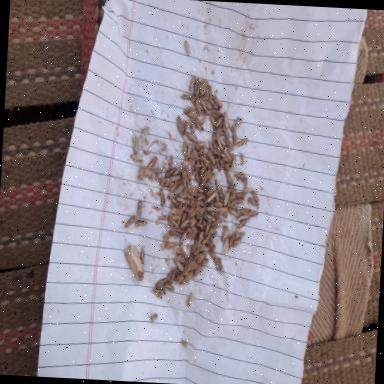abw: (121, 243, 146, 282)
pbw: (147, 308, 159, 328), (136, 124, 150, 140), (198, 78, 208, 100), (182, 38, 193, 58), (232, 232, 245, 248), (194, 238, 206, 255), (230, 116, 244, 130), (200, 173, 213, 188), (178, 230, 188, 249), (180, 169, 190, 188), (174, 114, 184, 132), (211, 93, 223, 108), (223, 110, 232, 128), (147, 166, 163, 176), (159, 172, 169, 188), (228, 230, 238, 246), (206, 150, 216, 166), (124, 213, 136, 226), (199, 154, 213, 165), (214, 178, 222, 196), (166, 215, 178, 227), (136, 198, 144, 216), (222, 238, 230, 256), (207, 138, 217, 152), (234, 136, 248, 146), (130, 152, 144, 162), (174, 258, 184, 272), (178, 268, 188, 282), (221, 224, 229, 241), (204, 220, 212, 237), (221, 150, 232, 162), (186, 131, 198, 142), (150, 288, 162, 299), (206, 191, 217, 203), (237, 213, 250, 223), (198, 97, 208, 110), (226, 170, 234, 186), (192, 80, 200, 96), (186, 290, 194, 306), (137, 164, 145, 180), (158, 188, 166, 204), (189, 238, 198, 252), (251, 187, 260, 201), (187, 258, 198, 269), (131, 136, 139, 151), (174, 162, 184, 174), (148, 156, 158, 168), (216, 133, 224, 148), (202, 168, 210, 183), (184, 105, 196, 115), (168, 194, 180, 204), (185, 143, 192, 160), (136, 218, 149, 227), (214, 256, 222, 270), (189, 74, 196, 90), (214, 191, 222, 205), (166, 156, 174, 170), (192, 154, 199, 170), (196, 251, 206, 262), (212, 218, 223, 228), (206, 238, 216, 249), (236, 172, 247, 182), (166, 167, 176, 178), (186, 164, 192, 182), (168, 272, 177, 284), (194, 214, 206, 223), (215, 114, 224, 126), (223, 191, 230, 206), (165, 240, 178, 248), (196, 231, 204, 244), (206, 204, 219, 212), (193, 265, 203, 275), (198, 259, 208, 269), (228, 206, 238, 216), (198, 164, 208, 174), (236, 218, 246, 228), (180, 218, 190, 228), (210, 99, 219, 110), (175, 195, 186, 204), (194, 118, 202, 130), (248, 208, 260, 216), (170, 180, 178, 192), (220, 205, 228, 217), (155, 278, 167, 286), (209, 115, 217, 127), (192, 150, 204, 158), (191, 142, 197, 158), (231, 130, 237, 145), (194, 172, 202, 183), (230, 156, 237, 168), (170, 207, 182, 214), (194, 96, 201, 108), (181, 93, 193, 100), (190, 117, 196, 131), (240, 206, 250, 214), (164, 282, 174, 290), (175, 250, 185, 258), (204, 100, 212, 110), (155, 287, 165, 295), (204, 214, 214, 222), (215, 158, 221, 170), (188, 204, 194, 216), (236, 192, 248, 198), (208, 249, 216, 258), (222, 126, 228, 138), (231, 187, 235, 205), (196, 142, 206, 149), (172, 213, 182, 220), (181, 142, 186, 156), (242, 186, 252, 193), (167, 269, 173, 280), (220, 160, 228, 168), (196, 222, 204, 230), (189, 191, 198, 198), (200, 115, 207, 124), (197, 204, 203, 214), (190, 95, 196, 105), (190, 185, 198, 192), (197, 189, 206, 195), (158, 215, 168, 220), (197, 194, 203, 201)
